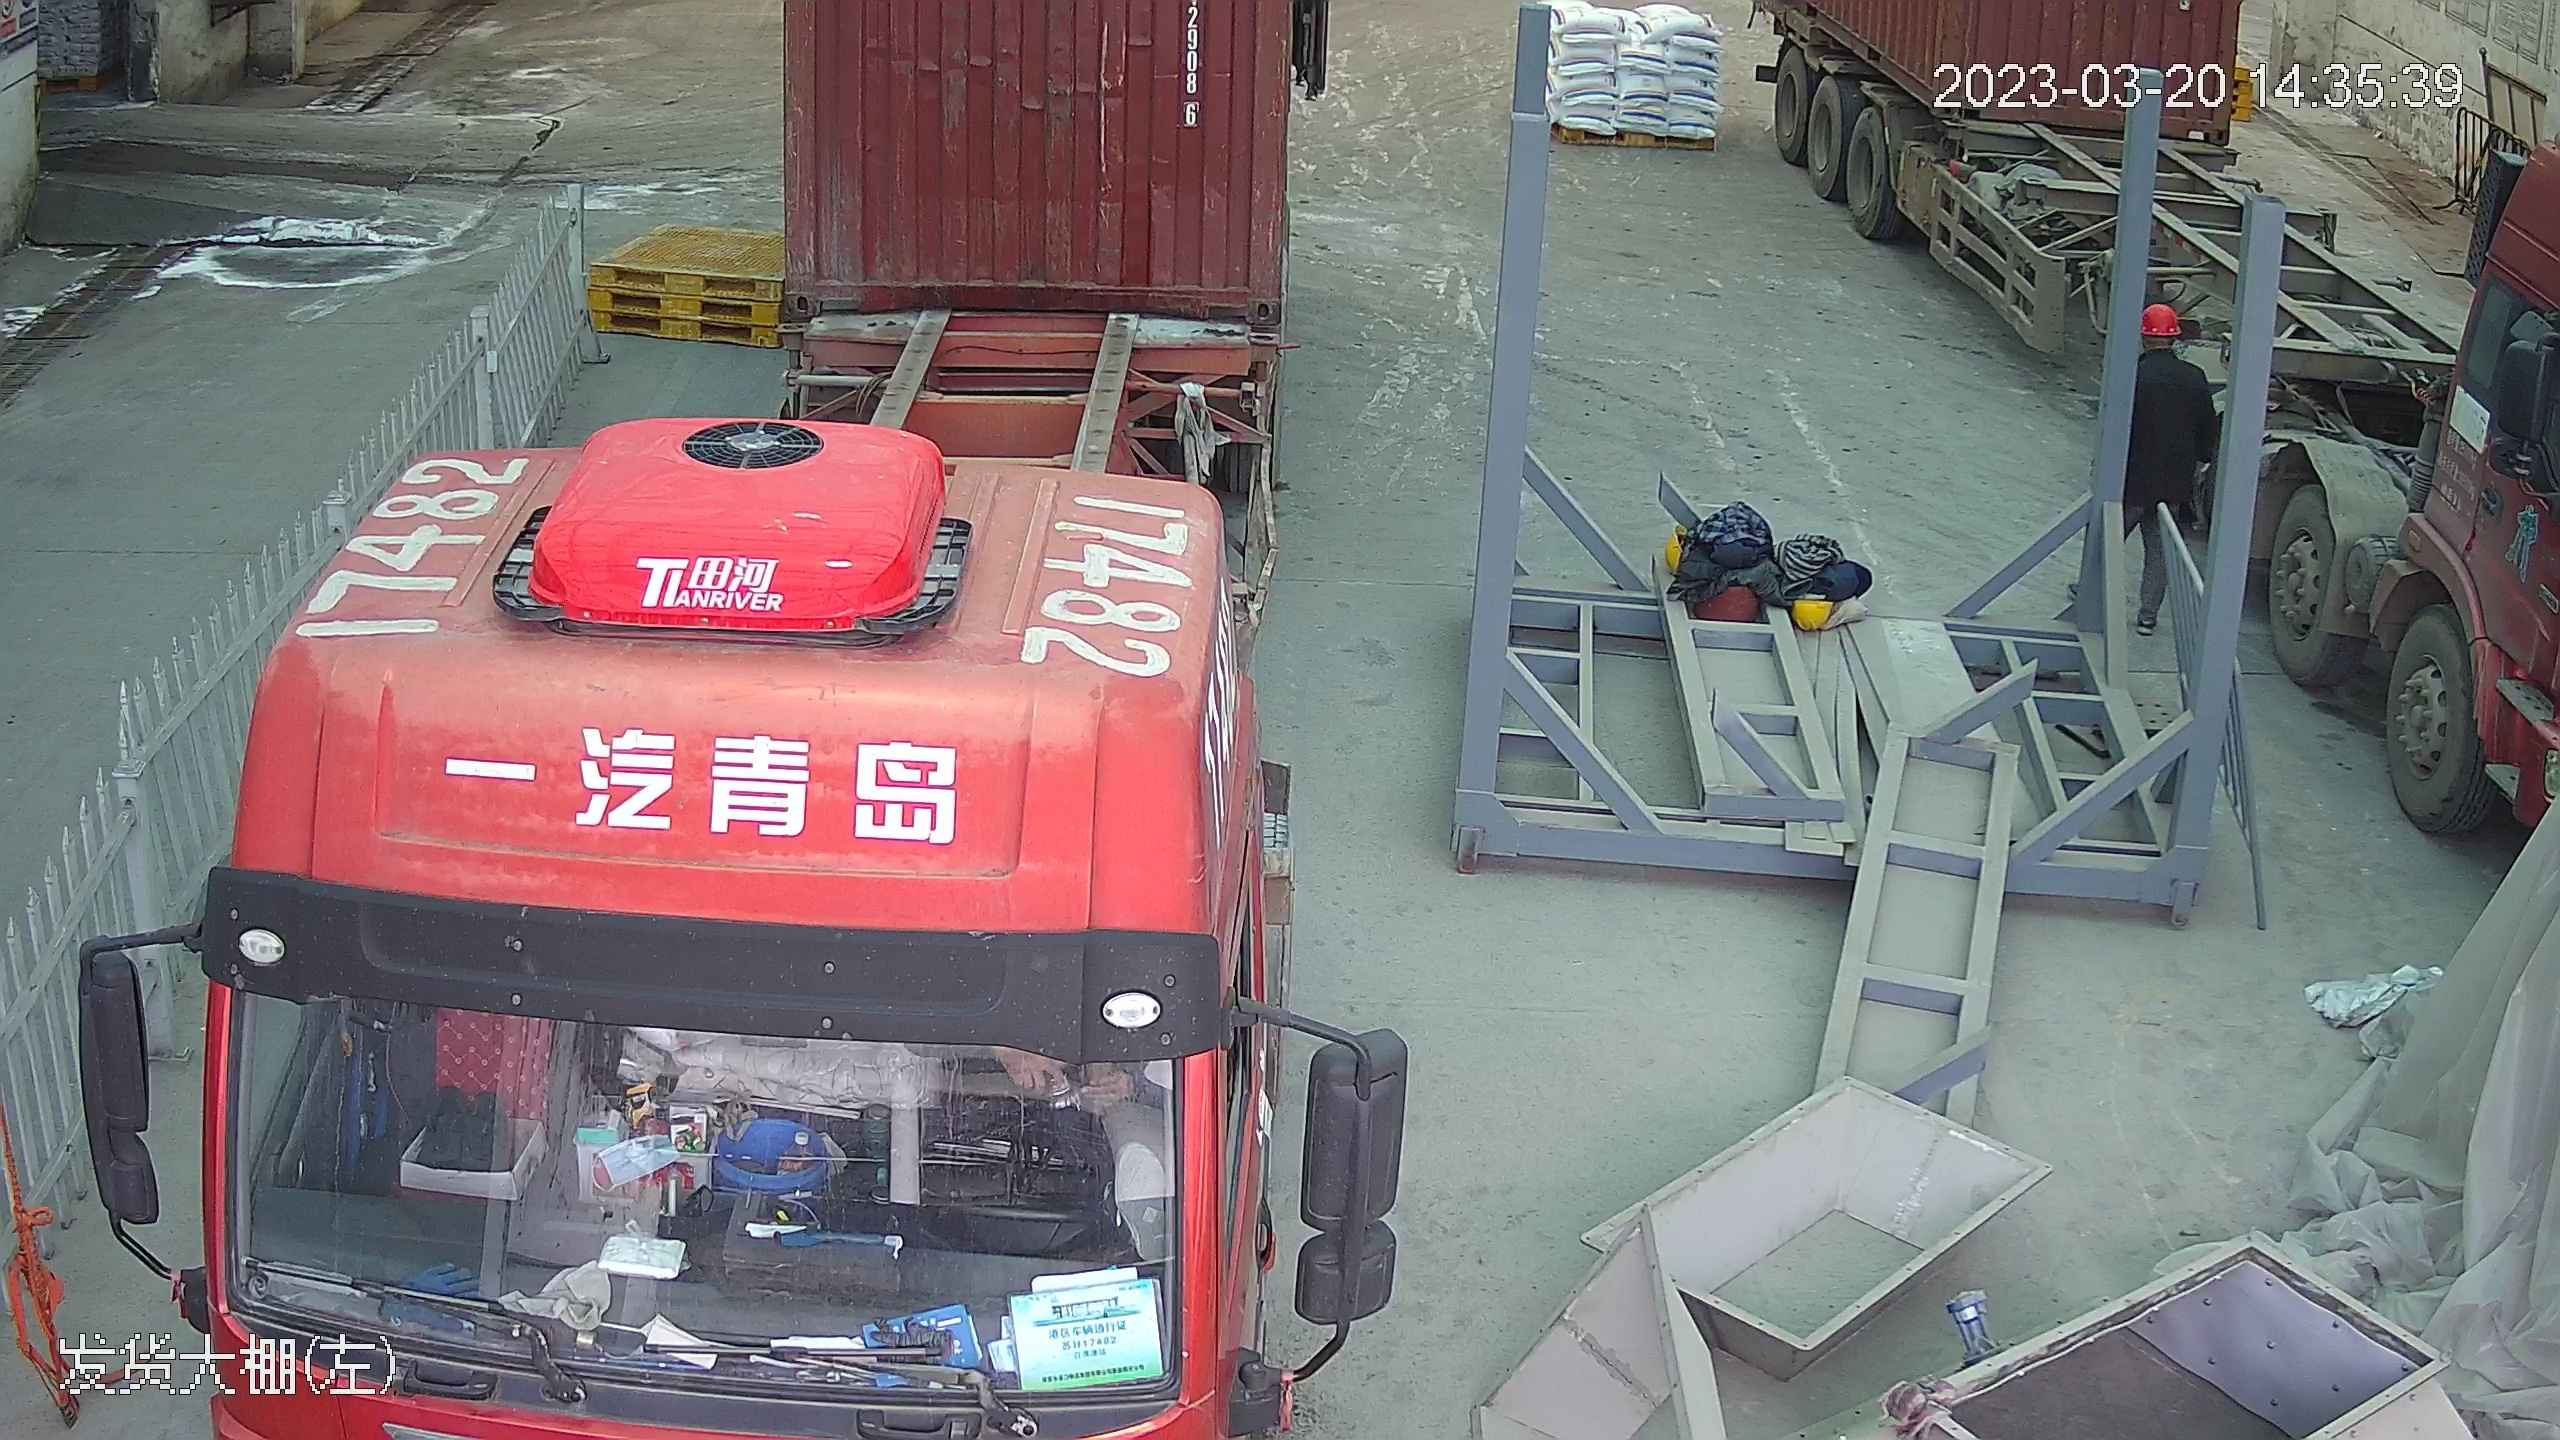head: (2131, 302, 2205, 398)
helmet: (2140, 301, 2180, 334)
people: (2119, 303, 2219, 639)
truck: (51, 0, 1306, 1440), (2299, 71, 2560, 875)
